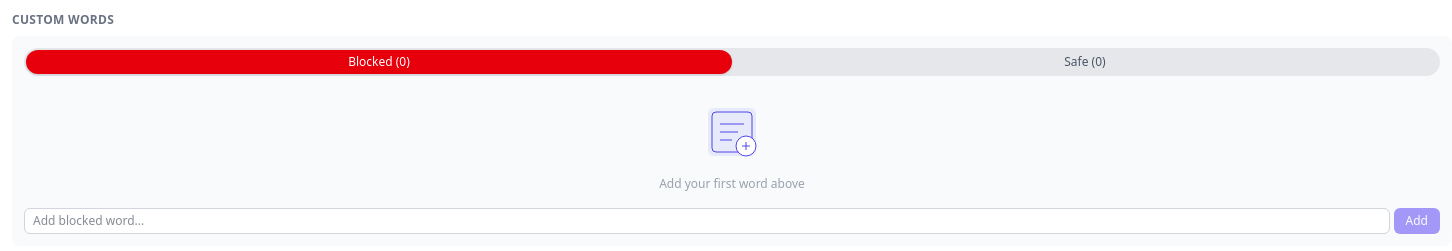
it: Preact migration — CustomWords interactions › CustomWords switches to safe words tab
Click the button "Safe (0)".
click(1085, 62)  # box [732,50,1438,74]
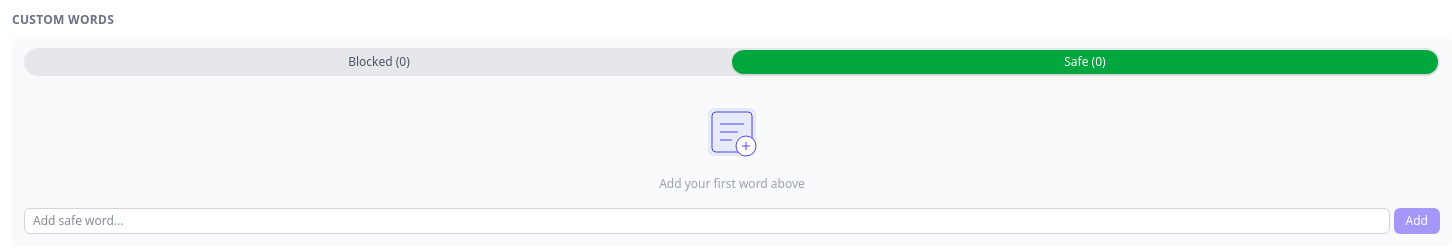
Result: the field with placeholder "Add safe word..." is shown at [24,208,1390,234]
